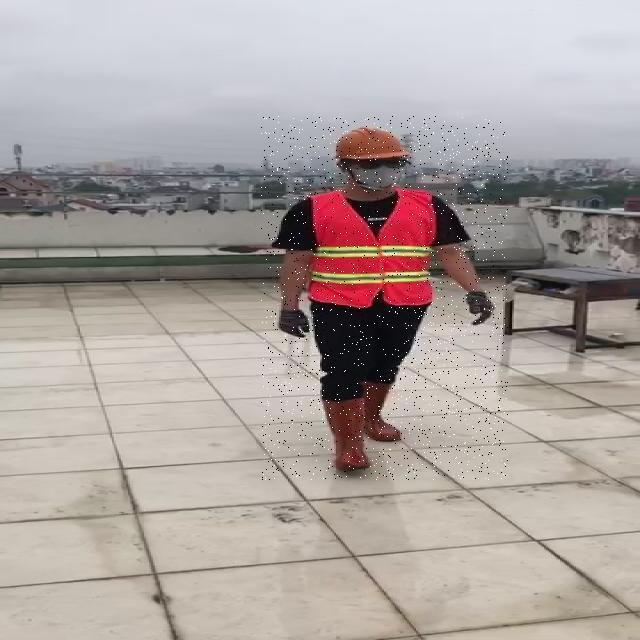boots: (322, 388, 370, 467), (359, 376, 408, 444)
gloves: (465, 291, 495, 325), (278, 309, 309, 338)
hard-hat: (335, 127, 412, 191), (334, 126, 410, 162)
person: (270, 125, 494, 471)
vest: (316, 185, 455, 311)
